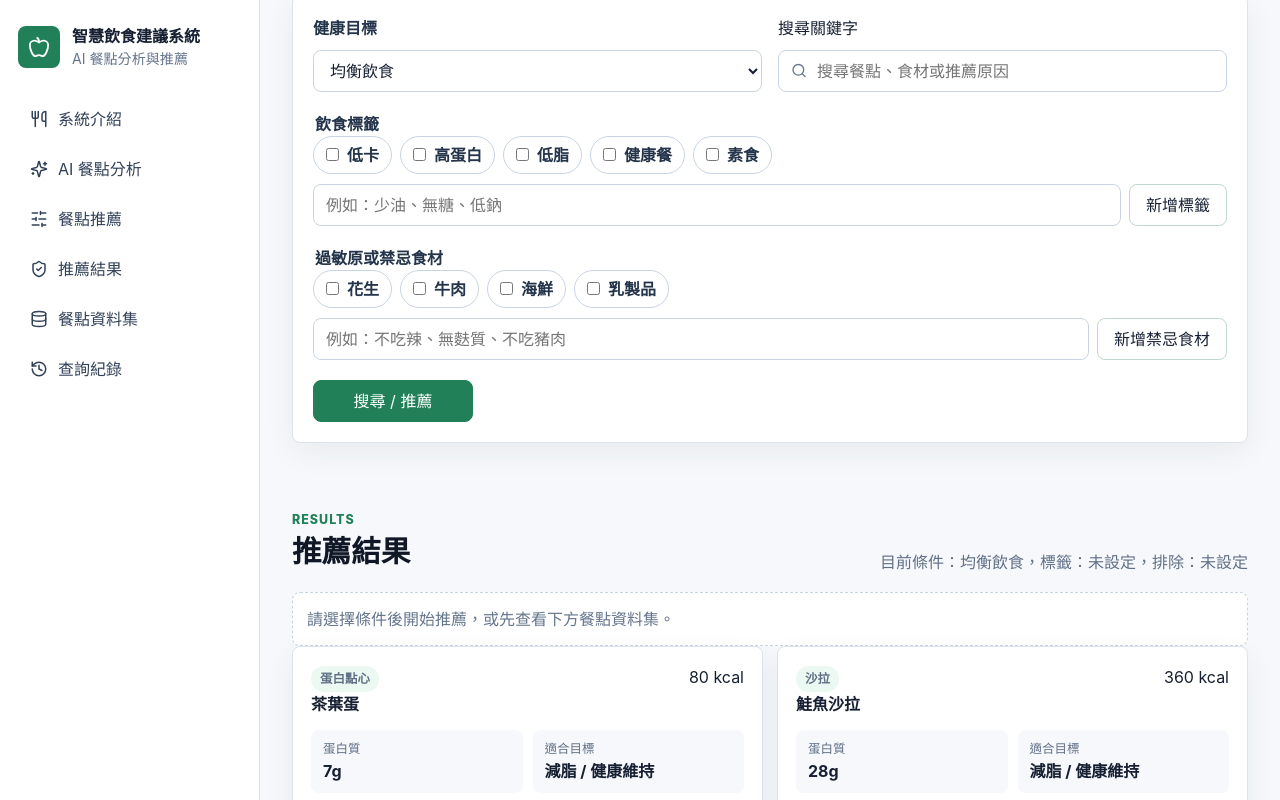
Test case: App › does not render incomplete recommendation cards as normal results
(page scrolled)
Click the button "搜尋 / 推薦": click(393, 401) [313,380,473,422]
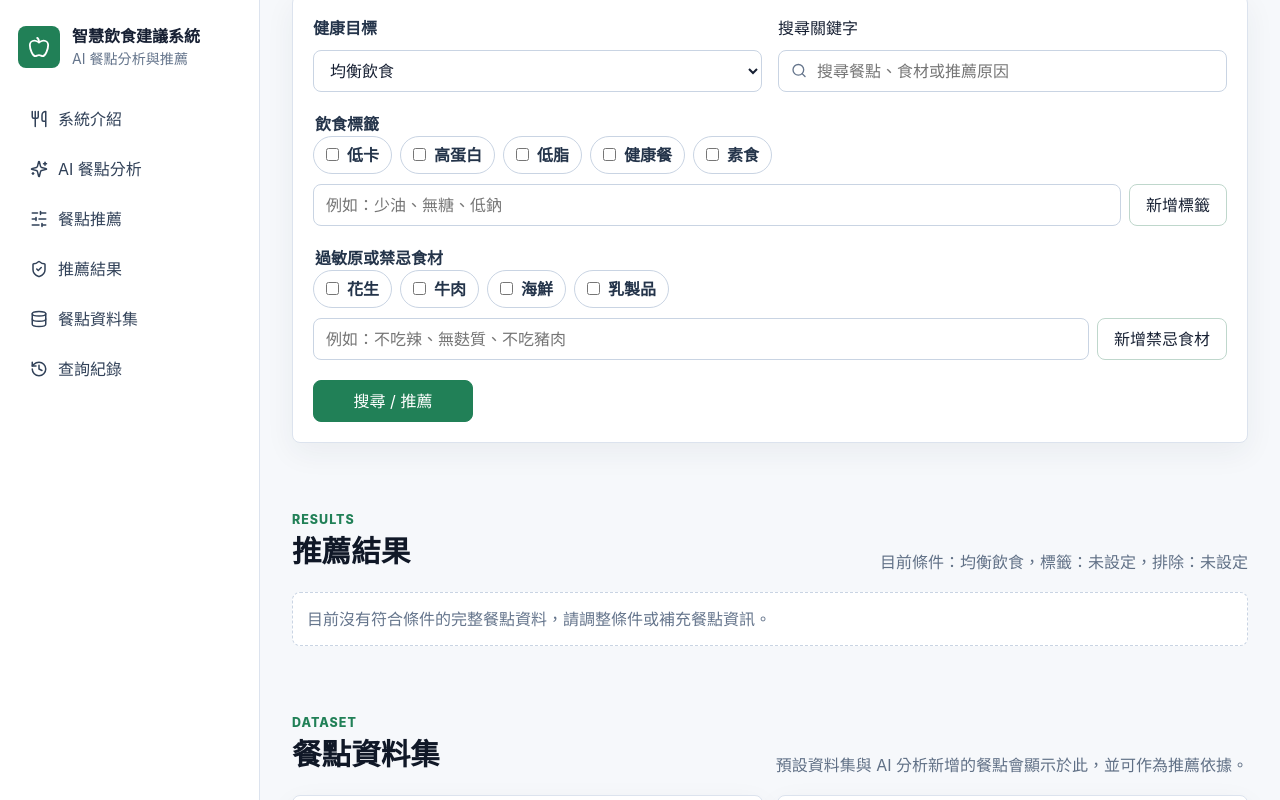
expect the text "目前沒有符合條件的完整餐點資料，請調整條件或補充餐點資訊。" is shown: met, box [292,592,1248,646]
